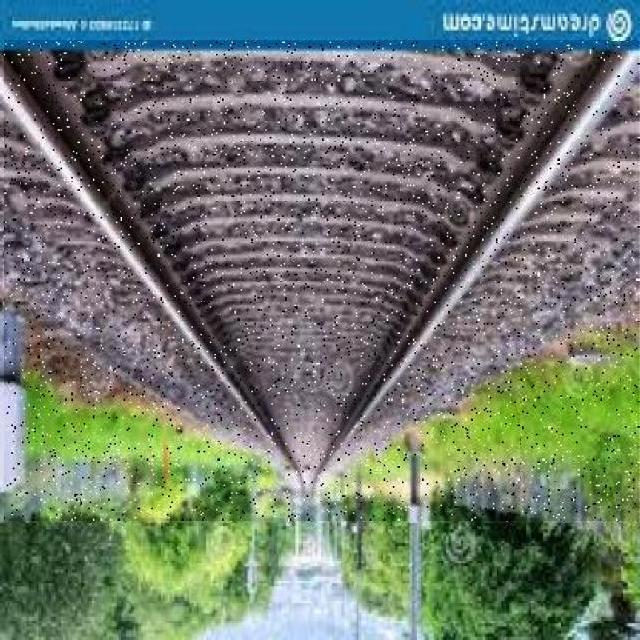rail: (5, 41, 640, 522)
